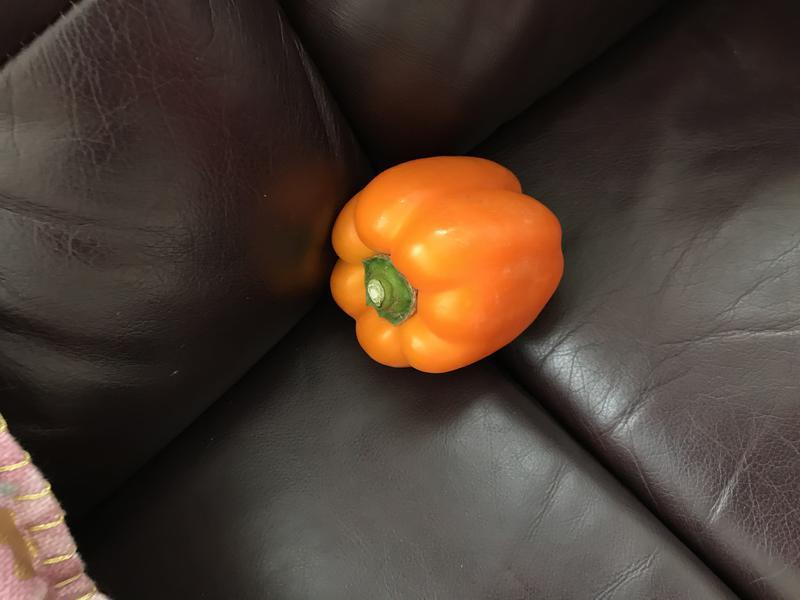orange_pepper: (322, 137, 573, 384)
